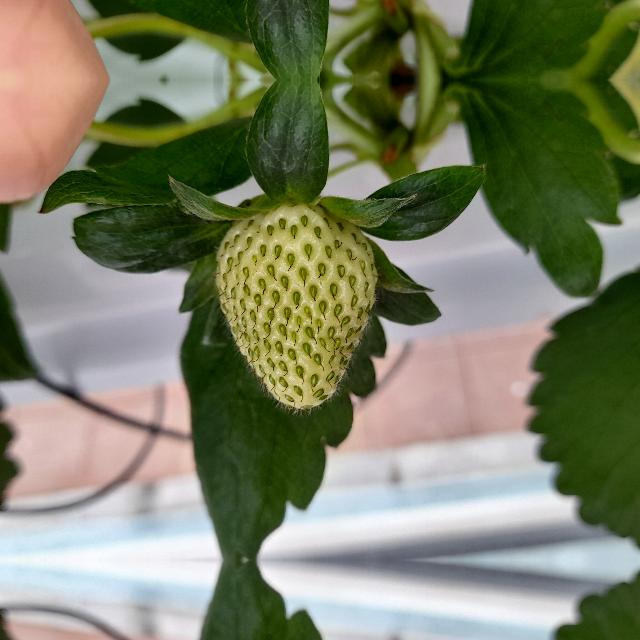Health_25: (213, 204, 381, 416)
